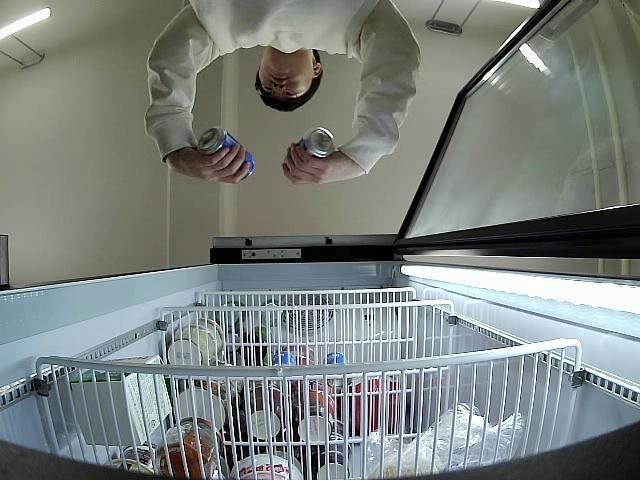13_pocariSweat: (197, 126, 256, 179), (294, 126, 336, 159)
